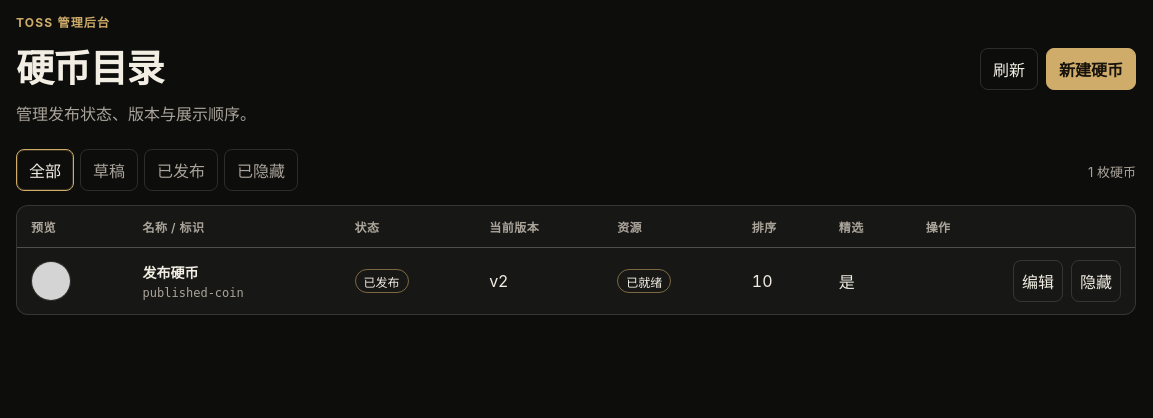
Test case: CoinsView › keeps the loaded catalog visible when refresh fails
Click the button with test id "reload-coins" at (1009,69), box left=980, top=48, right=1038, bottom=90
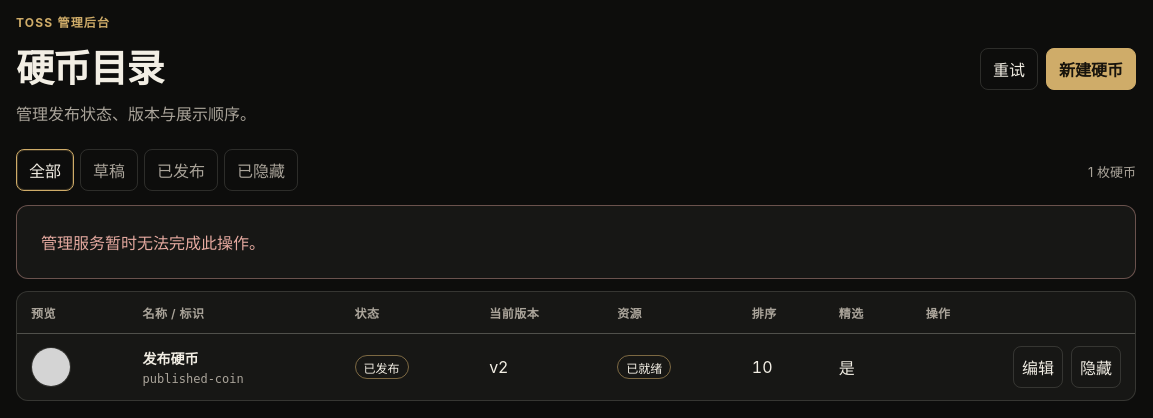
Check: the text "发布硬币" is shown, box left=143, top=350, right=199, bottom=367
Check: the text "管理服务暂时无法完成此操作。" is shown, box left=16, top=205, right=1136, bottom=279
